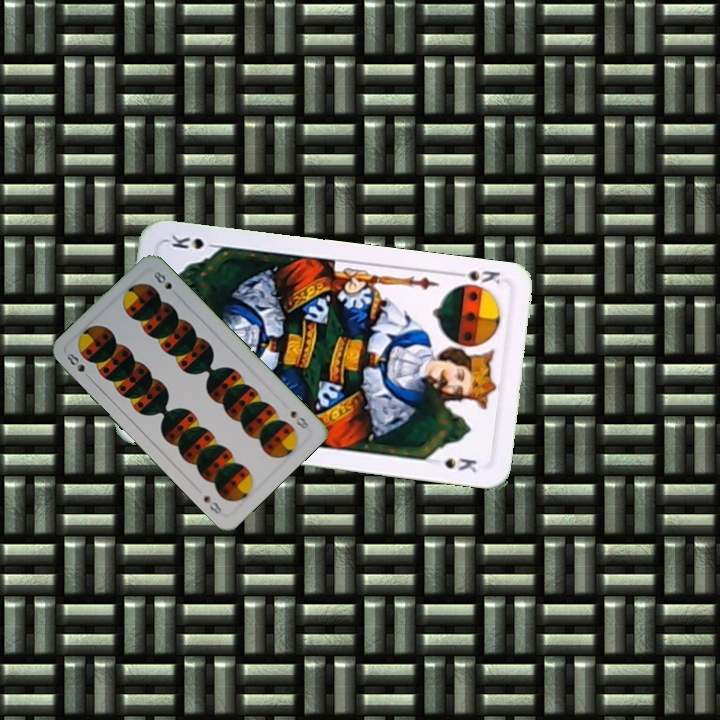S8: (286, 406, 312, 431), (63, 349, 87, 375)
SK: (449, 266, 503, 287)
